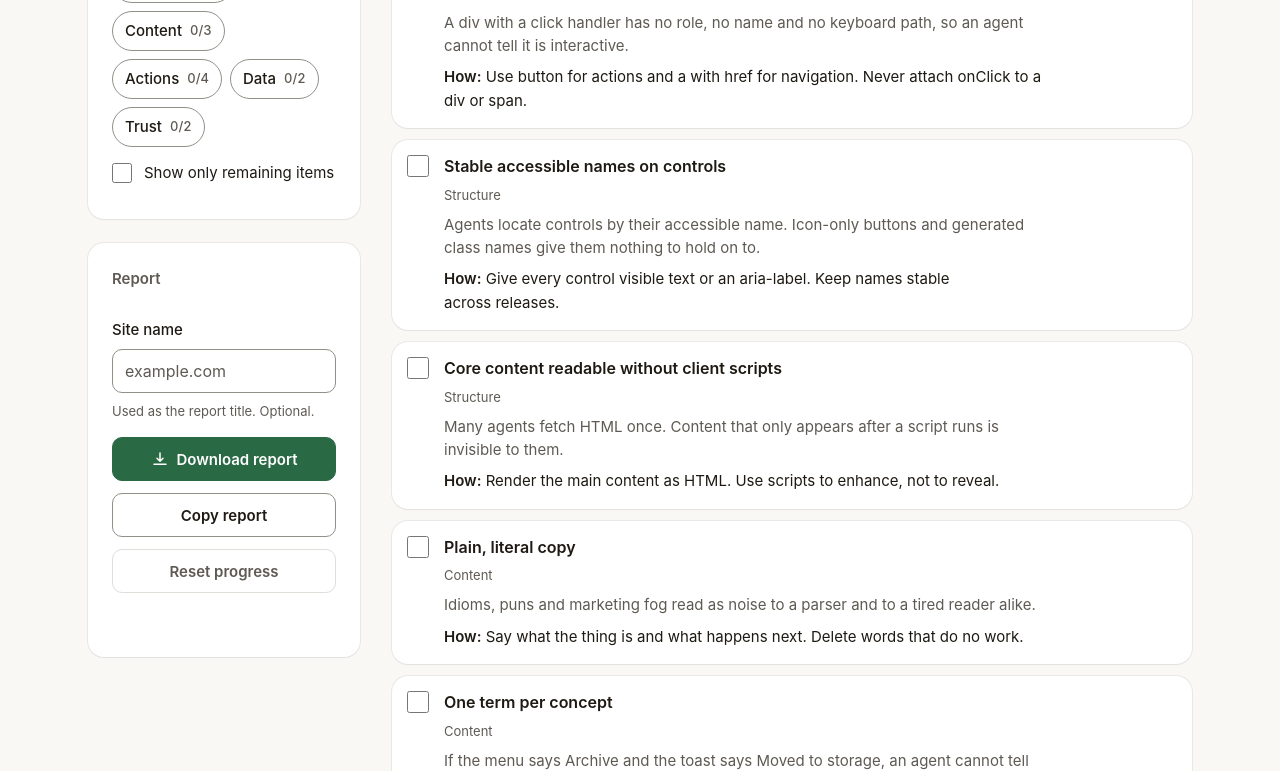
it: App › downloads a markdown report named after the site
(page scrolled)
Type "Example Shop" into the field labelled "Site name" at (224, 371), box [112,349,336,393]
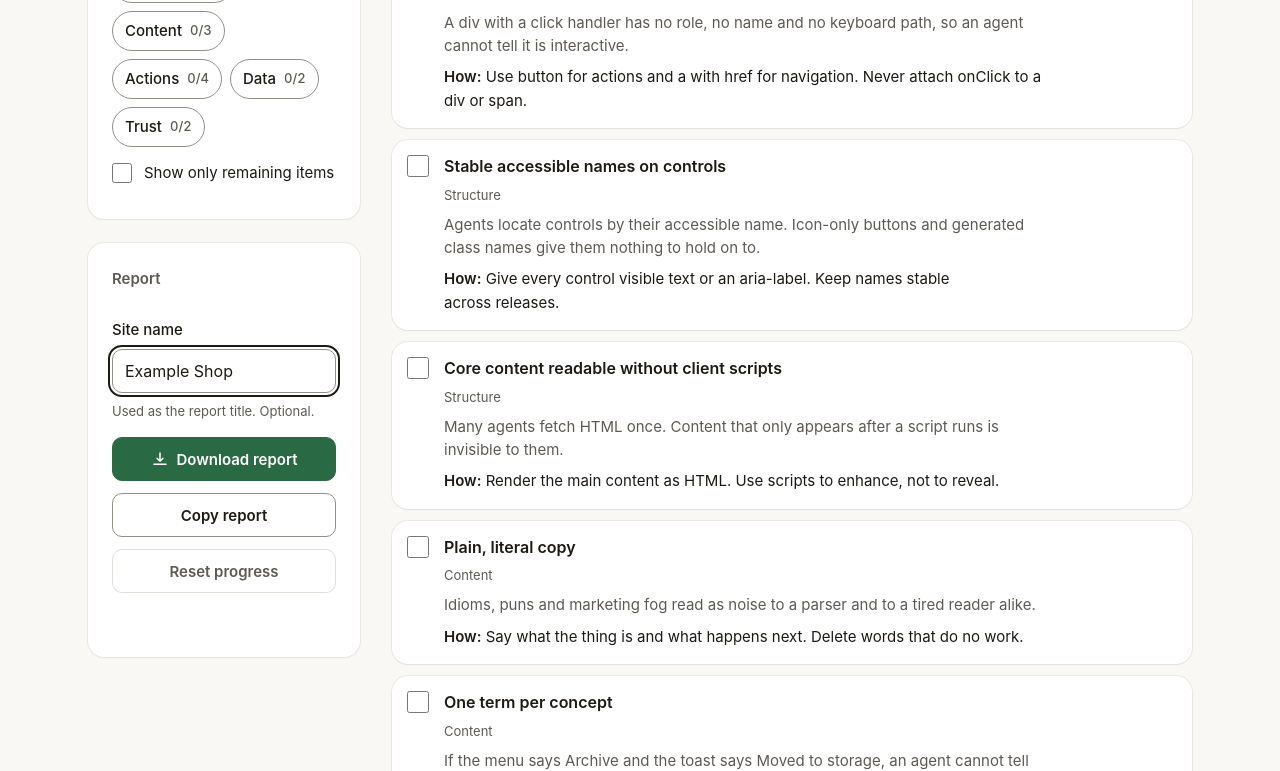
Click the button "Download report" at (224, 459), box [112,437,336,481]
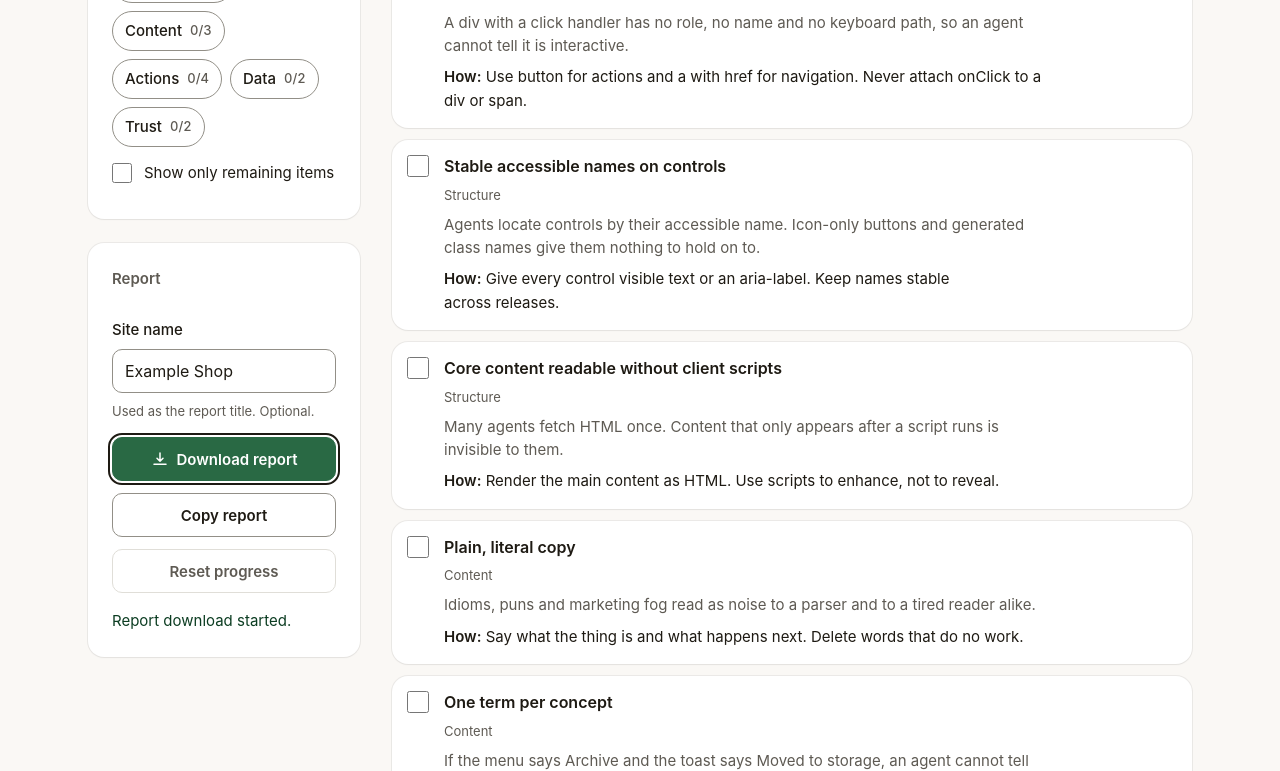
Check: the text "Report download started." is shown, box [112,611,291,630]
